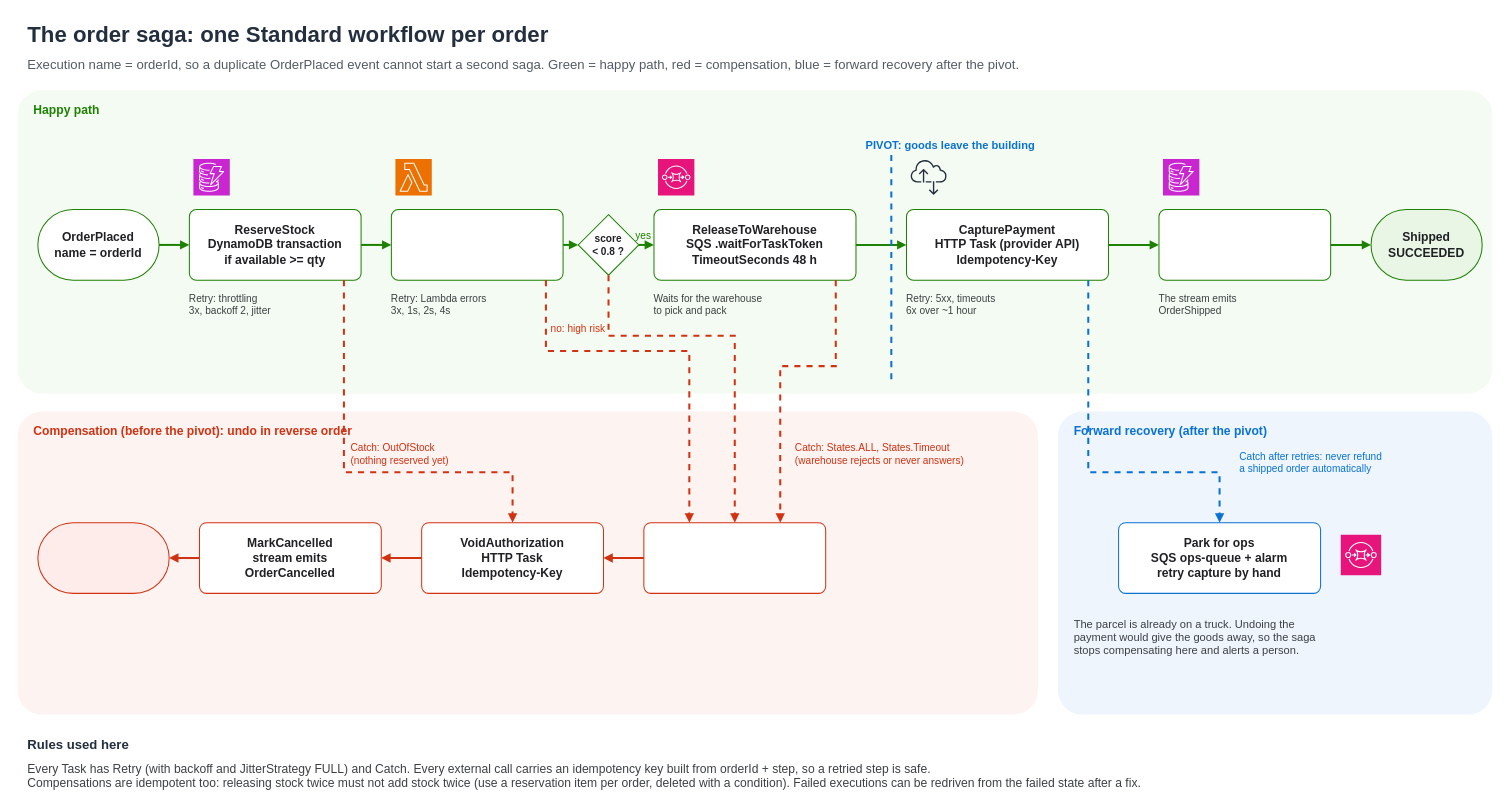
Image size: 1509x808. Some labels were removed from this diagram. Each missing label, with the box of its shape:
Cancelled (customer emailed): (37, 522, 169, 593)
MarkShipped DynamoDB UpdateItem version + 1: (1158, 209, 1331, 280)
ReleaseStock DynamoDB transaction delete reservation: (643, 522, 826, 593)
ScoreFraud Lambda: (390, 209, 563, 280)
